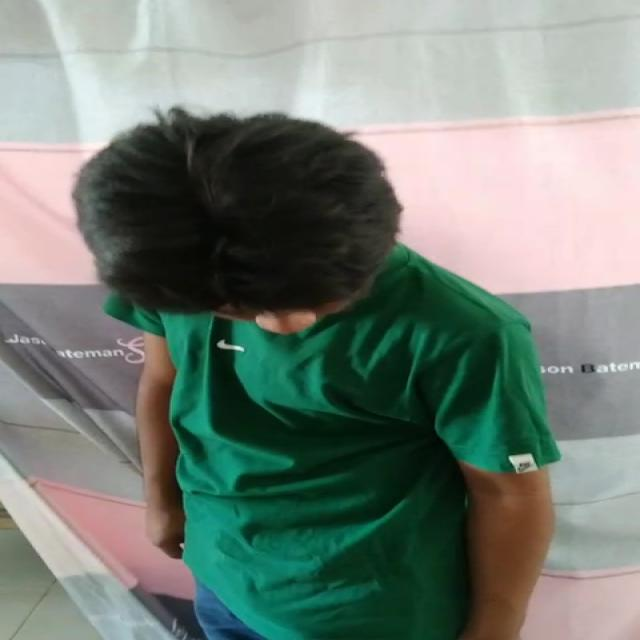9_cabeza_baja: (71, 110, 399, 335)
